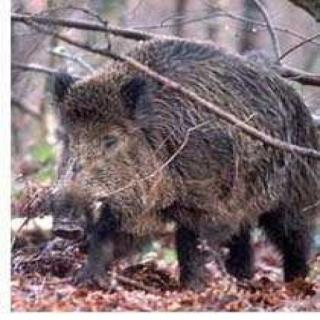Pig: (21, 42, 320, 306)
